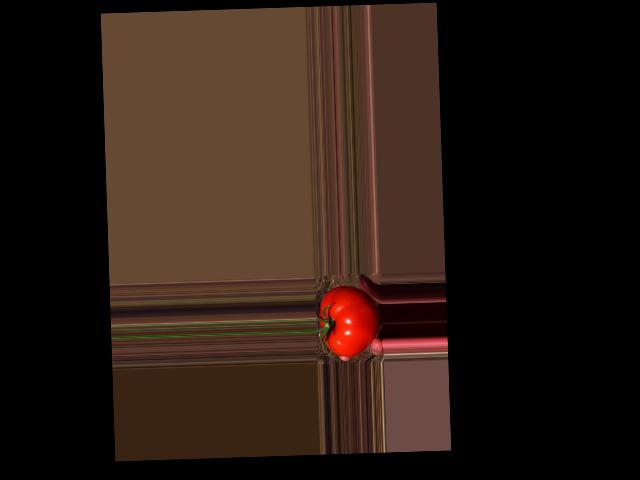tomato: (318, 286, 381, 357)
